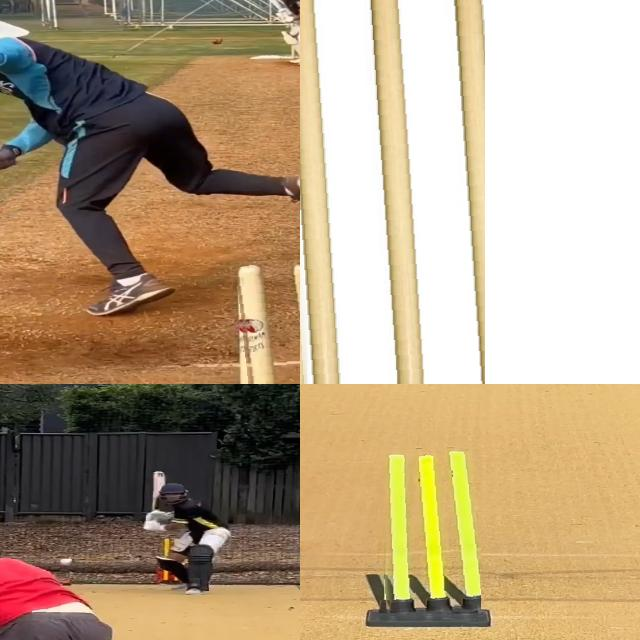Cricket ball: (59, 557, 72, 566), (212, 38, 224, 45)
Stumps: (300, 0, 484, 384), (376, 451, 481, 616), (235, 263, 300, 384)
